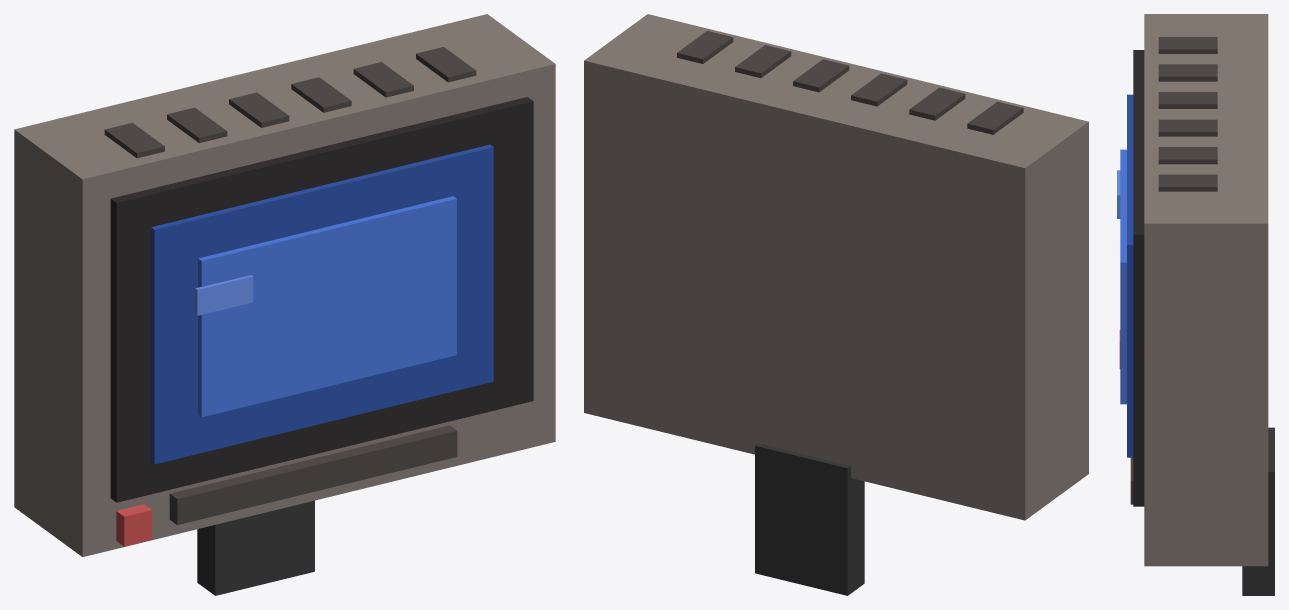
File: CMU3DWallTelevision.glb
3 views of the same model, side by side, from view 1: azimuth 30°, elevation 25°; view 2: azimuth 150°, elevation 25°; view 3: azimuth 270°, elevation 25° (orthographic). The views are drawn at different scales.
Parts seen in each view (by area): view 1: TV housing, screen bezel, blue CRT, CRT center, speaker, wall support, top vent (×6), glass highlight, power indicator; view 2: TV housing, wall support, top vent (×6); view 3: TV housing, top vent (×6), screen bezel, blue CRT, wall support, CRT center.
Boxes of the visible parts, bbox=[...] form: TV housing: bbox=[14, 14, 555, 557]; screen bezel: bbox=[110, 97, 533, 502]; blue CRT: bbox=[151, 144, 493, 464]; CRT center: bbox=[198, 196, 456, 417]; speaker: bbox=[169, 425, 457, 524]; wall support: bbox=[197, 500, 314, 595]; top vent (×6): bbox=[104, 47, 476, 158]; glass highlight: bbox=[195, 275, 253, 315]; power indicator: bbox=[116, 504, 152, 546]; TV housing: bbox=[584, 14, 1088, 520]; wall support: bbox=[755, 443, 864, 595]; top vent (×6): bbox=[677, 31, 1023, 134]; TV housing: bbox=[1144, 14, 1268, 566]; top vent (×6): bbox=[1158, 37, 1217, 191]; screen bezel: bbox=[1133, 50, 1144, 506]; blue CRT: bbox=[1127, 94, 1133, 457]; wall support: bbox=[1242, 427, 1274, 595]; CRT center: bbox=[1120, 149, 1126, 404].
Size of the model in its own units: 0.76 by 0.778 by 0.242.
